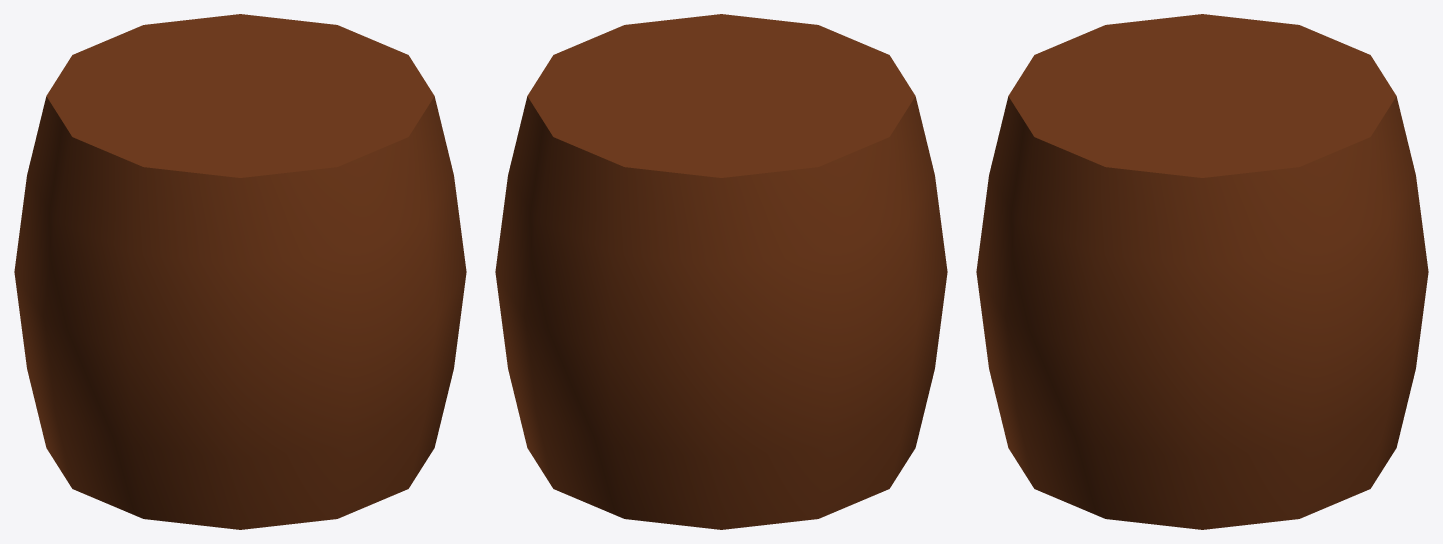
File: barrel.glb
3 renders of one model, left to right at view 1: azimuth 30°, elevation 25°; view 2: azimuth 150°, elevation 25°; view 3: azimuth 270°, elevation 25°, orthographic.
Parts seen in each view (by area): view 1: Barrel-col; view 2: Barrel-col; view 3: Barrel-col.
Part boxes in pixels (<box>): Barrel-col: <box>14,14,466,529</box>; Barrel-col: <box>495,14,947,529</box>; Barrel-col: <box>976,14,1428,529</box>.
Size of the model in its own units: 1.19 by 1.02 by 1.19.
